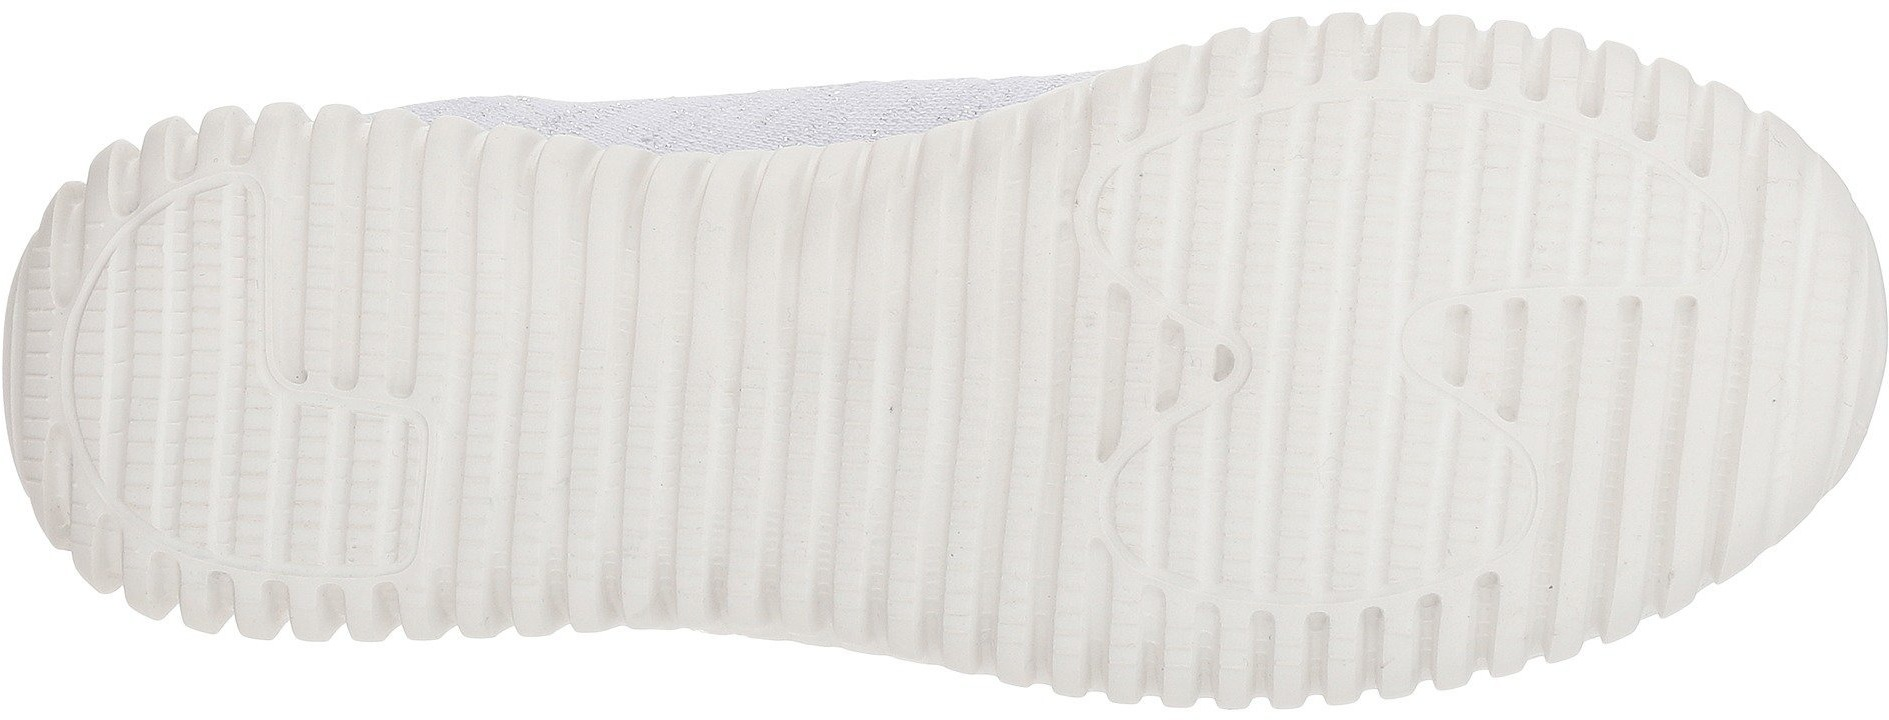line: (464, 256, 777, 584), (798, 241, 1110, 569), (98, 260, 417, 569), (1528, 212, 1822, 509), (1191, 406, 1443, 653), (1190, 132, 1423, 359)
